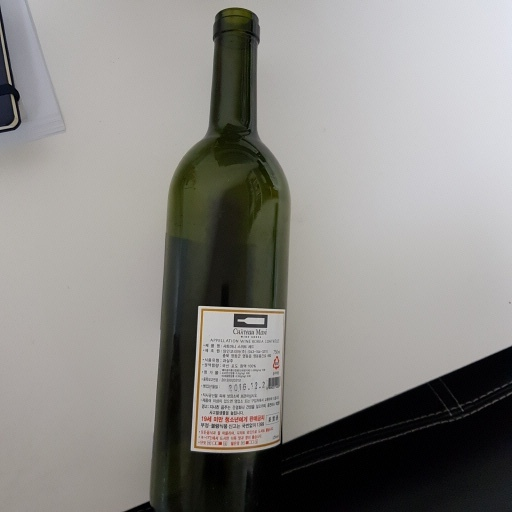Glass_2: (150, 2, 296, 512)
